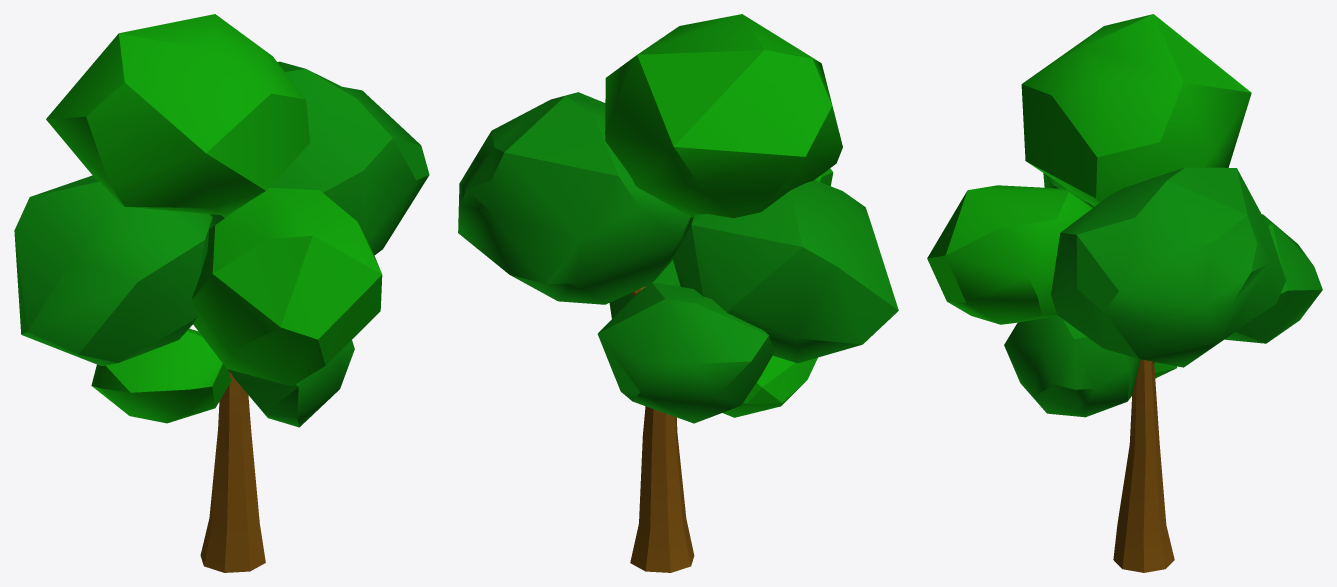
The model's file is M_Tree4.fbx.
3 renders of one model, left to right at view 1: azimuth 30°, elevation 25°; view 2: azimuth 150°, elevation 25°; view 3: azimuth 270°, elevation 25°, orthographic. The views are drawn at different scales.
Visible parts, largest first — view 1: M_Tree4; view 2: M_Tree4; view 3: M_Tree4.
Part boxes in pixels (x1,y1,x2,y2): M_Tree4: (14,14,429,572); M_Tree4: (458,14,898,572); M_Tree4: (927,14,1322,572).
Bounding box in the file's own units: 3.35 × 4.37 × 3.15.
